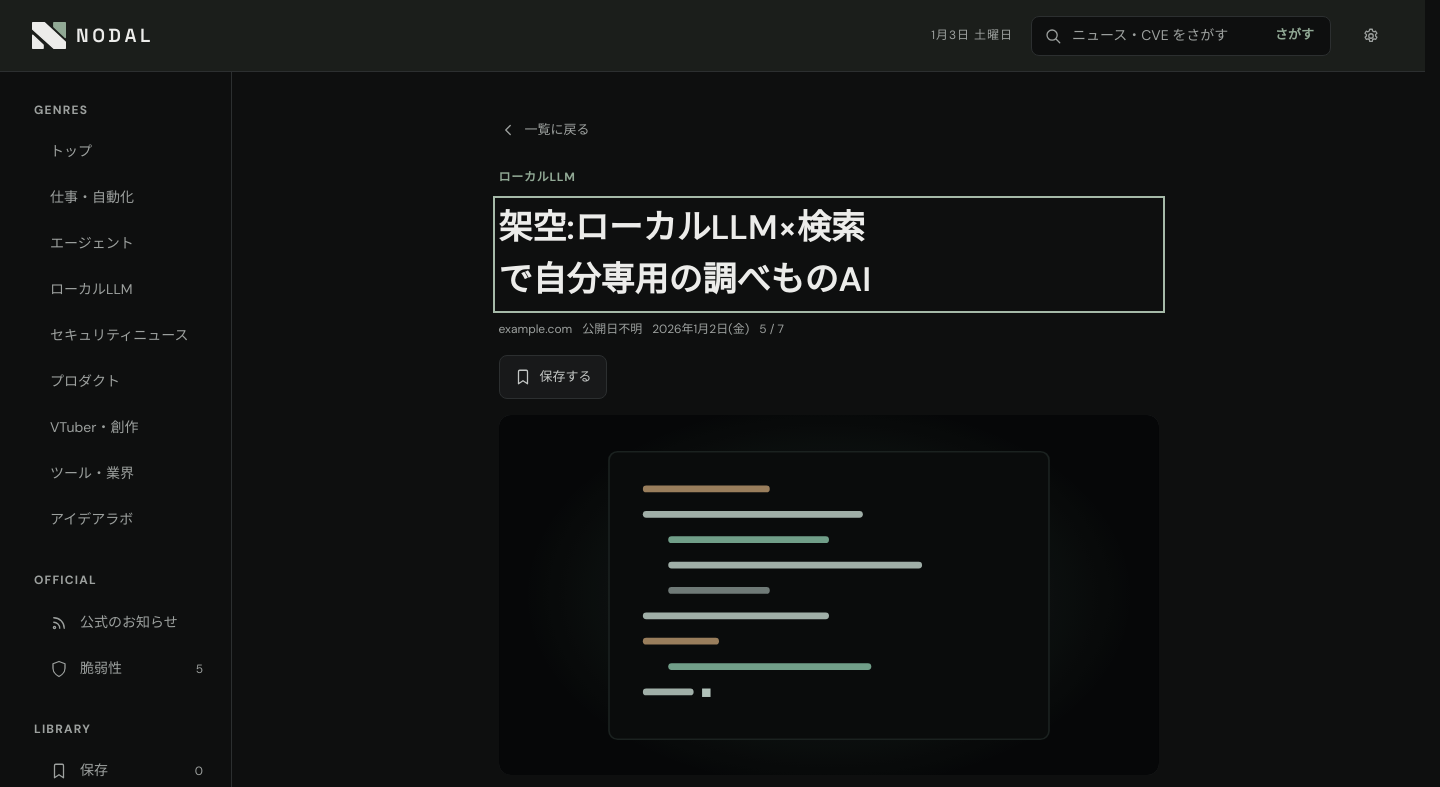
重なる順(z-index) › 候補が開いている間、上のバーの中の combobox が aria-expanded="true" になる(上の :has が当たる条件)
Check: the link "一覧に戻る" is shown, box [498,121,590,139]
In the dropdown named "検索語": (1166, 36) [1070,23,1263,48], type "CVE"
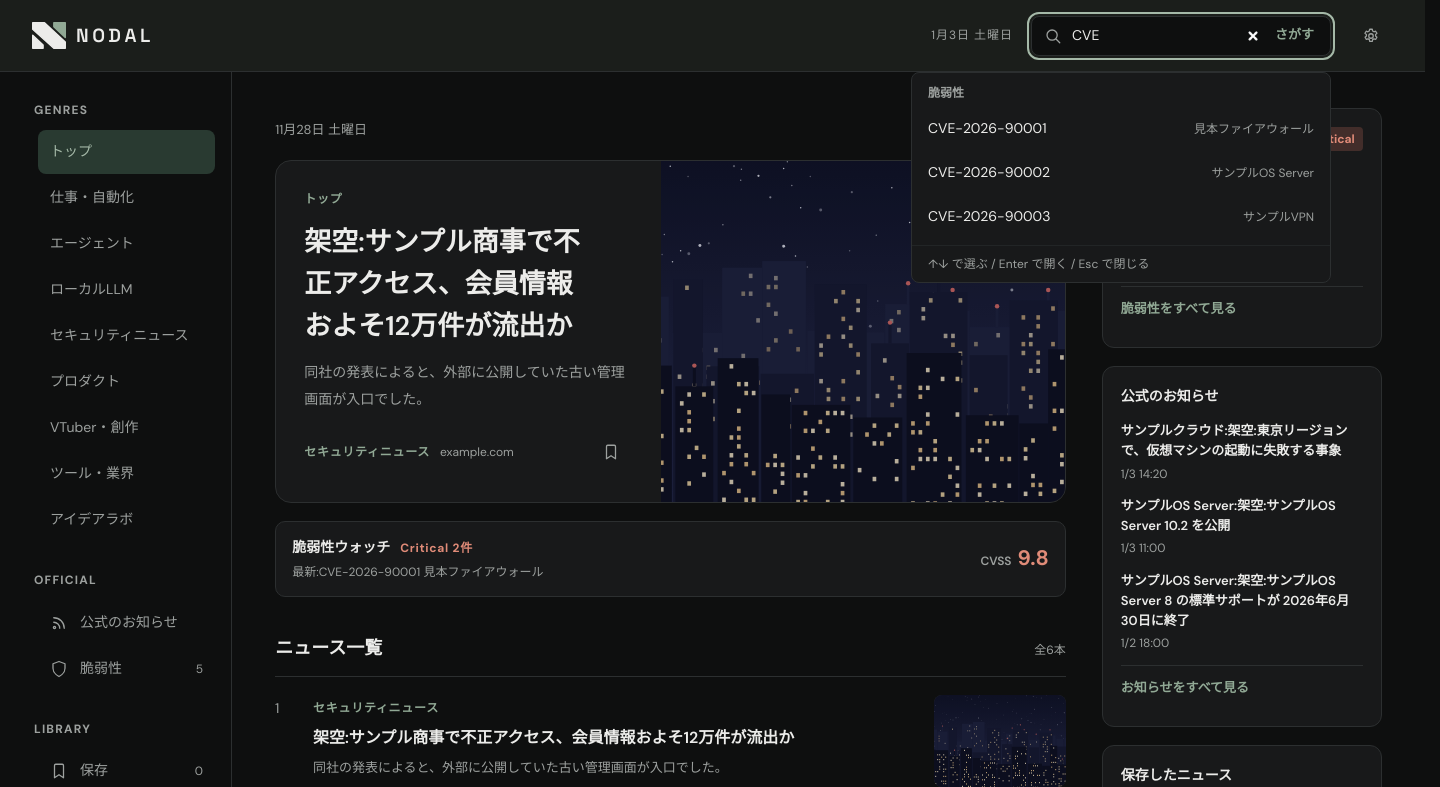
Check: the header named "検索語" is shown, box [0,0,1425,72]
Check: the dropdown named "検索語" is expanded, box [1070,23,1263,48]
